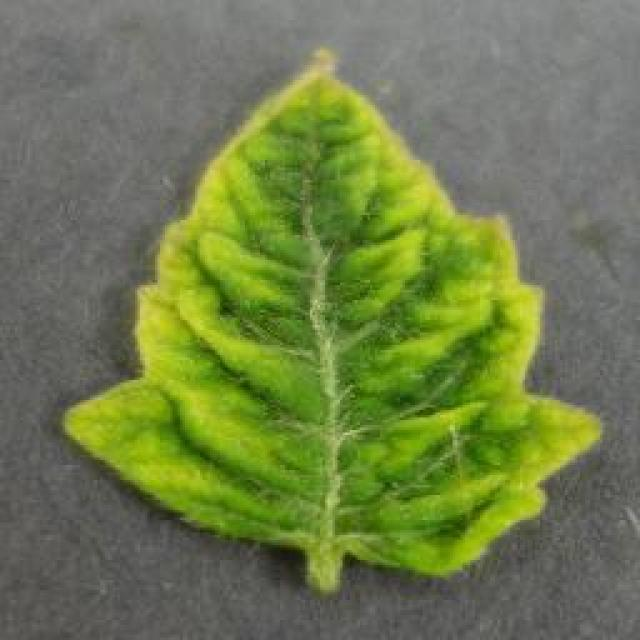Tomato yellow virus leaf: (62, 48, 599, 582)
